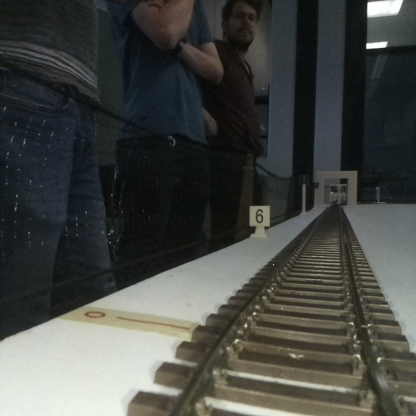black-info-7: (300, 174, 308, 215)
white-stop-6: (249, 205, 269, 237)
